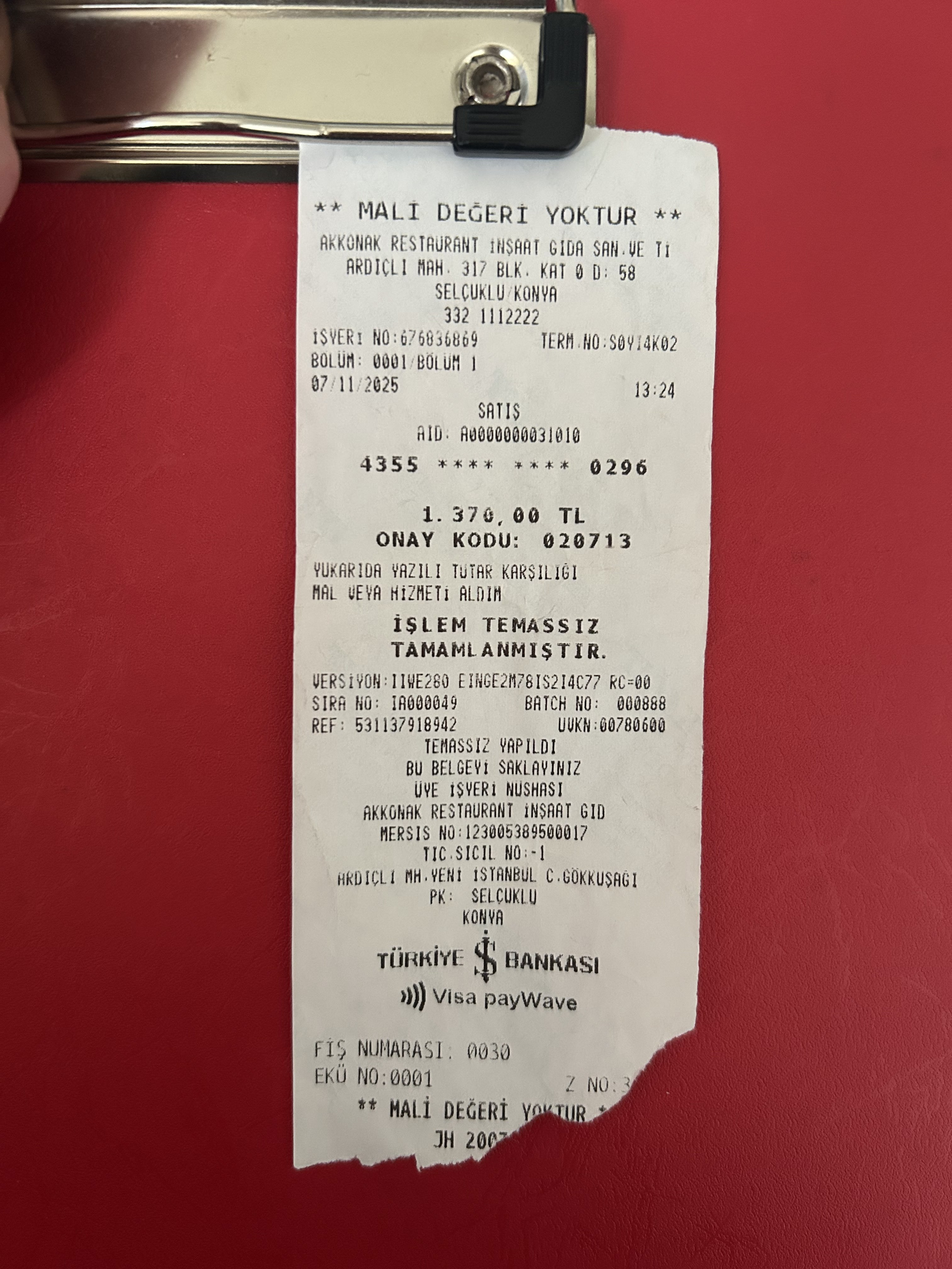date: (302, 368, 413, 403)
price: (413, 498, 594, 529)
workplace: (309, 224, 696, 307)
